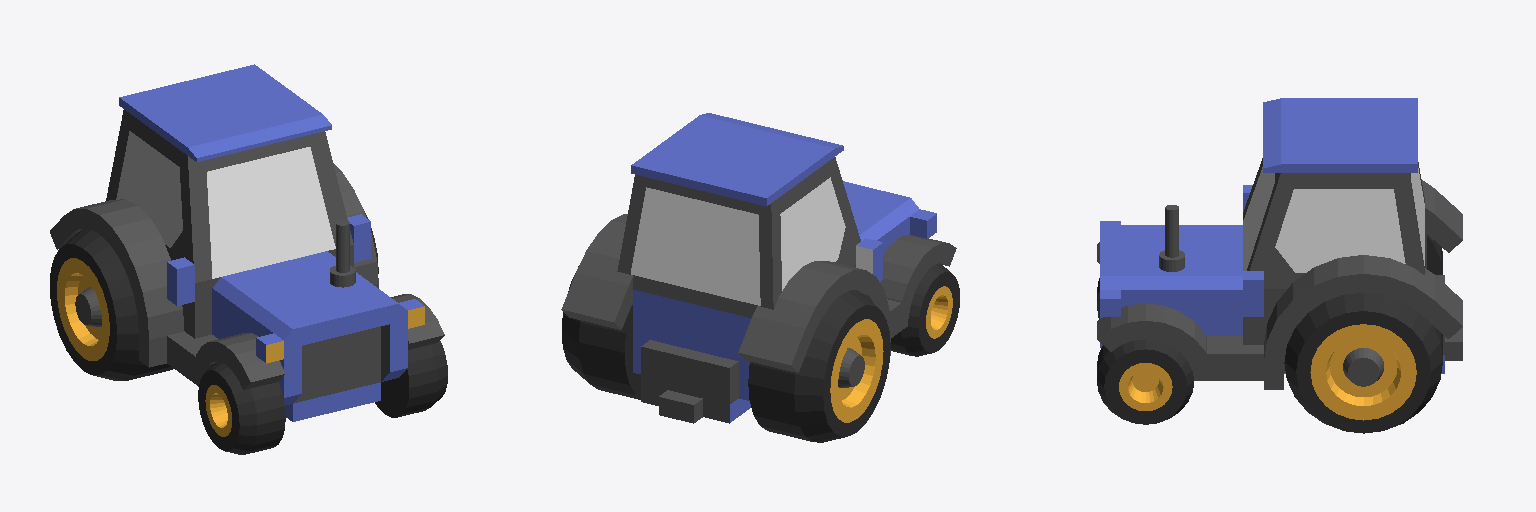
File: tractor.obj
3 renders of one model, left to right at view 1: azimuth 30°, elevation 25°; view 2: azimuth 150°, elevation 25°; view 3: azimuth 270°, elevation 25°, orthographic.
Parts seen in each view (by area): view 1: body, skirts, wheel_backRight, wheel_frontRight, wheel_frontLeft; view 2: body, skirts, wheel_backRight, wheel_backLeft, wheel_frontRight; view 3: body, skirts, wheel_backLeft, wheel_frontLeft.
Part boxes in pixels (x1,y1,x2,y2): body: (106,64,424,421); skirts: (50,163,444,389); wheel_backRight: (50,229,173,380); wheel_frontRight: (198,362,285,454); wheel_frontLeft: (375,341,447,417); body: (617,113,936,423); skirts: (561,214,956,372); wheel_backRight: (748,290,890,442); wheel_backLeft: (562,266,640,399); wheel_frontRight: (891,263,959,356); body: (1100,98,1462,373); skirts: (1097,180,1462,389); wheel_backLeft: (1284,292,1442,433); wheel_frontLeft: (1097,339,1193,424).
Size of the model in its own units: 1.66 by 1.51 by 2.02.